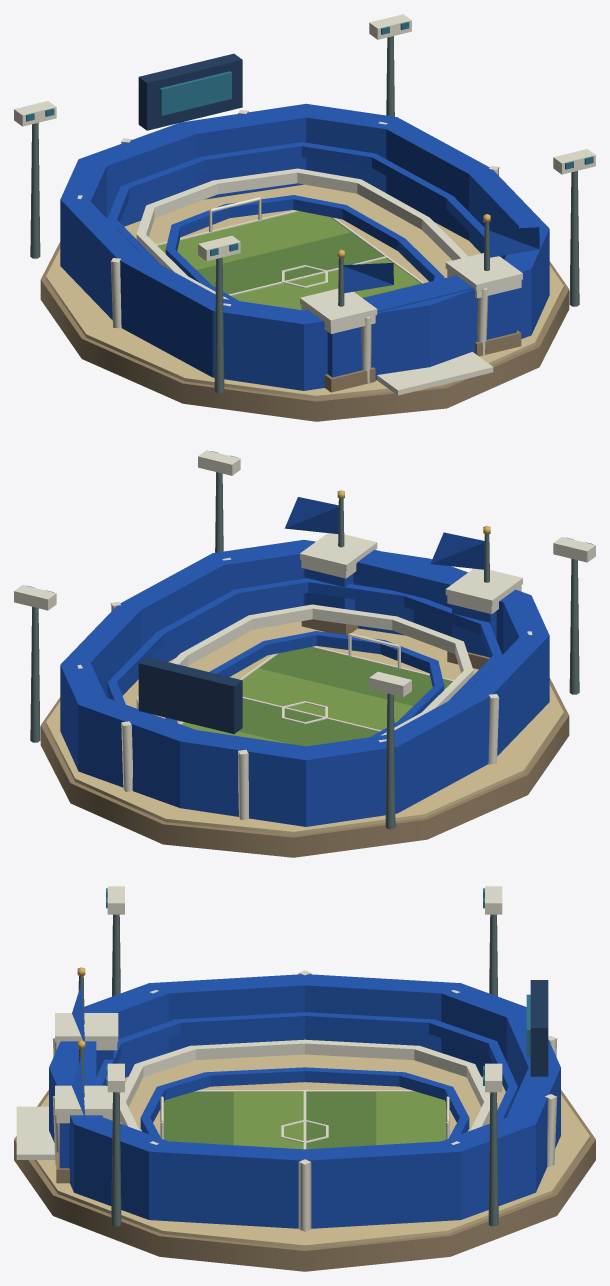
The model's file is main-stadium-lv2.glb.
The picture shows the model from 3 angles, top to bottom: view 1: azimuth 30°, elevation 25°; view 2: azimuth 150°, elevation 25°; view 3: azimuth 270°, elevation 25°; orthographic projection. The views are drawn at different scales.
Visible parts, largest first — view 1: stadium_shell_royal, foundation_sand, foundation_stoneDark, seating_royal, pitch_grassLight, seating_white, pitch_grass, lighting_iron, scoreboard_naval, entrance_pylons_roof_white, entrance_pylons_royal, lighting_white (+10 smaller); view 2: stadium_shell_royal, foundation_sand, foundation_stoneDark, seating_royal, pitch_grass, scoreboard_naval, seating_white, pitch_grassLight, lighting_iron, entrance_pylons_roof_white, entrance_bridge_royal, lighting_white (+7 smaller); view 3: stadium_shell_royal, foundation_sand, foundation_stoneDark, seating_royal, pitch_grassLight, pitch_grass, seating_white, lighting_iron, entrance_pylons_roof_white, facade_ribs_white, lighting_white, entrance_steps_white (+5 smaller).
Boxes of the visible parts, box(x1,y1,x2,y2) form: stadium_shell_royal: box(60, 103, 549, 390); foundation_sand: box(46, 184, 563, 399); foundation_stoneDark: box(40, 242, 569, 421); seating_royal: box(107, 142, 502, 300); pitch_grassLight: box(158, 211, 420, 309); seating_white: box(136, 168, 467, 299); pitch_grass: box(197, 232, 421, 297); lighting_iron: box(30, 36, 579, 393); scoreboard_naval: box(138, 53, 242, 130); entrance_pylons_roof_white: box(300, 253, 522, 326); entrance_pylons_royal: box(327, 289, 516, 377); lighting_white: box(14, 14, 595, 261); stadium_shell_royal: box(60, 539, 549, 826); foundation_sand: box(46, 621, 563, 835); foundation_stoneDark: box(40, 678, 569, 857); seating_royal: box(107, 578, 502, 736); pitch_grass: box(238, 647, 451, 746); scoreboard_naval: box(138, 657, 242, 733); seating_white: box(136, 604, 473, 735); pitch_grassLight: box(182, 668, 412, 743); lighting_iron: box(30, 472, 579, 829); entrance_pylons_roof_white: box(300, 533, 522, 606); entrance_bridge_royal: box(353, 549, 467, 606); lighting_white: box(14, 450, 595, 697); stadium_shell_royal: box(49, 974, 560, 1228); foundation_sand: box(34, 1054, 590, 1248); foundation_stoneDark: box(14, 1090, 595, 1271); seating_royal: box(96, 1012, 517, 1138); pitch_grassLight: box(233, 1092, 445, 1149); pitch_grass: box(164, 1092, 376, 1149); seating_white: box(120, 1039, 489, 1130); lighting_iron: box(111, 914, 498, 1226); entrance_pylons_roof_white: box(55, 1013, 118, 1115); facade_ribs_white: box(52, 970, 557, 1231); lighting_white: box(107, 886, 502, 1092); entrance_steps_white: box(16, 1106, 54, 1159).
Bounding box in the file's own units: 0.9074 × 0.335 × 1.
